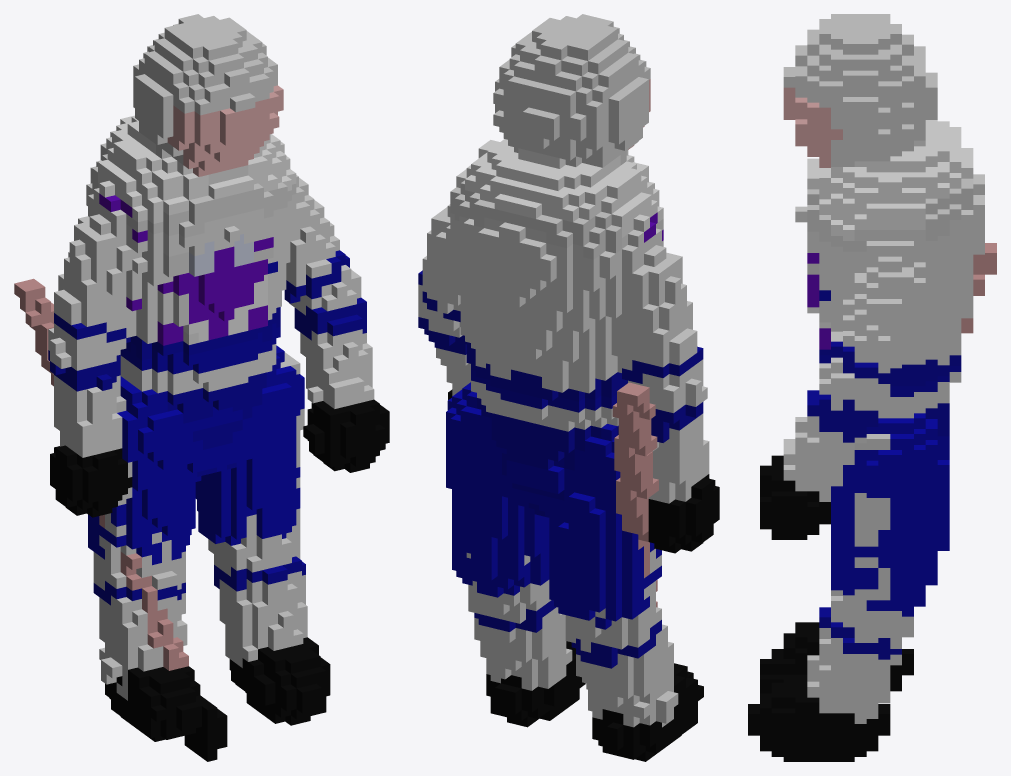
The model's file is nhl95pc_player.glb.
3 views of the same model, side by side, from view 1: azimuth 30°, elevation 25°; view 2: azimuth 150°, elevation 25°; view 3: azimuth 270°, elevation 25° (orthographic). The views are drawn at different scales.
Parts seen in each view (by area): view 1: geometry_0; view 2: geometry_0; view 3: geometry_0.
Part boxes in pixels (bbox=[...]): geometry_0: bbox=[14, 14, 389, 761]; geometry_0: bbox=[418, 14, 719, 761]; geometry_0: bbox=[748, 14, 996, 761].
Bounding box in the file's own units: 0.7636 × 1.8 × 0.5727.
